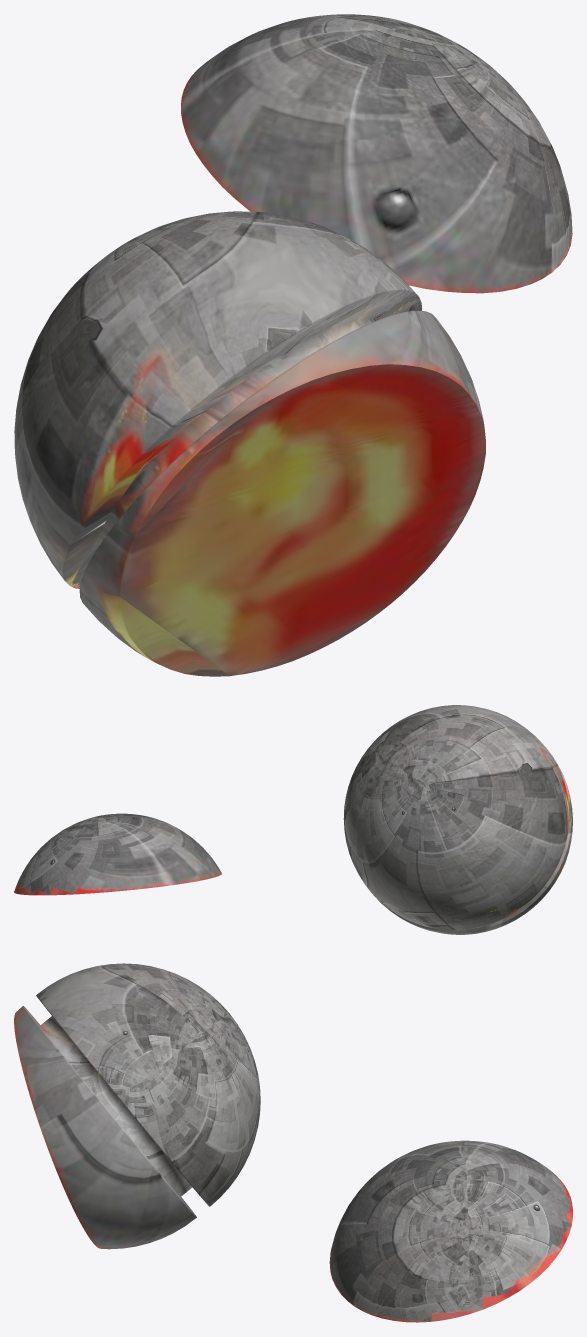
File: Drone166_000016.obj
3 views of the same model, one above another, from view 1: azimuth 30°, elevation 25°; view 2: azimuth 150°, elevation 25°; view 3: azimuth 270°, elevation 25° (orthographic). The views are drawn at different scales.
Parts seen in each view (by area): view 1: Sphere.006, Sphere.000_Sphere.007; view 2: Sphere.006, Sphere.000_Sphere.007; view 3: Sphere.006, Sphere.000_Sphere.007.
Part boxes in pixels (bbox=[...]): Sphere.006: bbox=[14, 211, 485, 676]; Sphere.000_Sphere.007: bbox=[181, 14, 572, 293]; Sphere.006: bbox=[343, 705, 572, 934]; Sphere.000_Sphere.007: bbox=[14, 813, 221, 895]; Sphere.006: bbox=[14, 963, 260, 1249]; Sphere.000_Sphere.007: bbox=[329, 1140, 572, 1322].
Bounding box in the file's own units: 3.96 × 2.08 × 4.08.
Materials: 3 (3 with a texture image).
